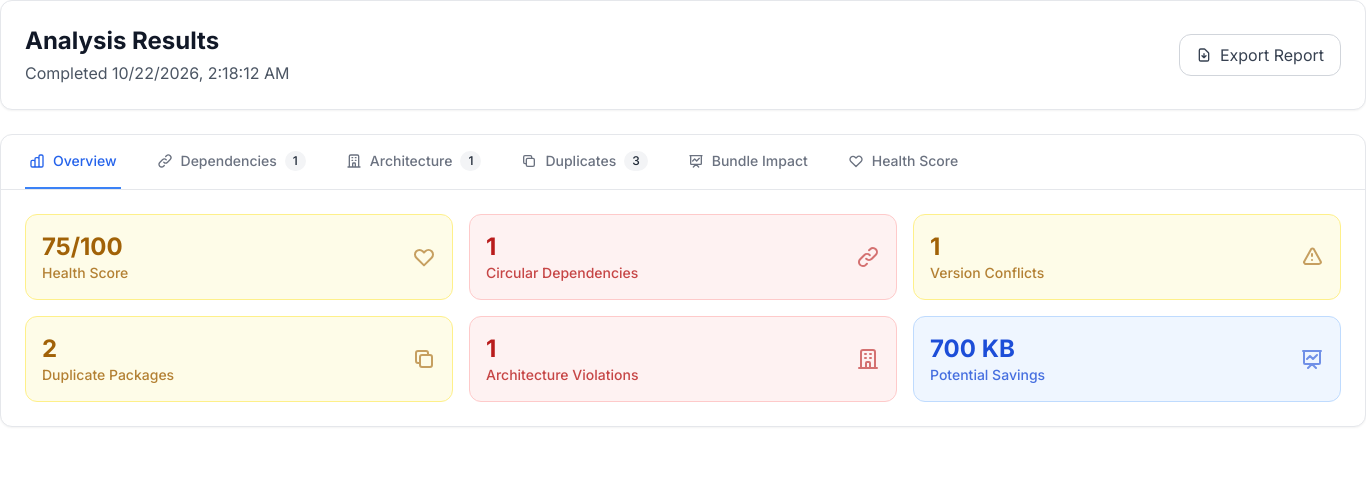
Scenario: AnalysisResults › Tab Navigation › [P1] should switch to Dependencies tab on click
// Dependencies tab is clicked
Click the button "Dependencies 1" at (231, 162), box x1=152 y1=135 x2=310 y2=189
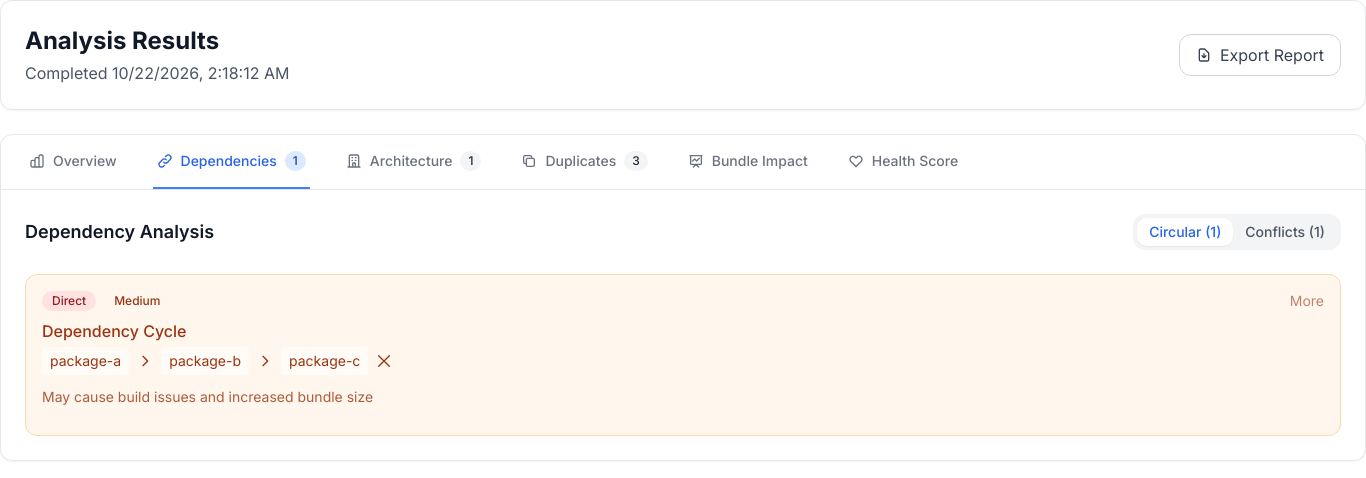
Result: the heading "Dependency Analysis" is shown at x1=25 y1=218 x2=214 y2=246
